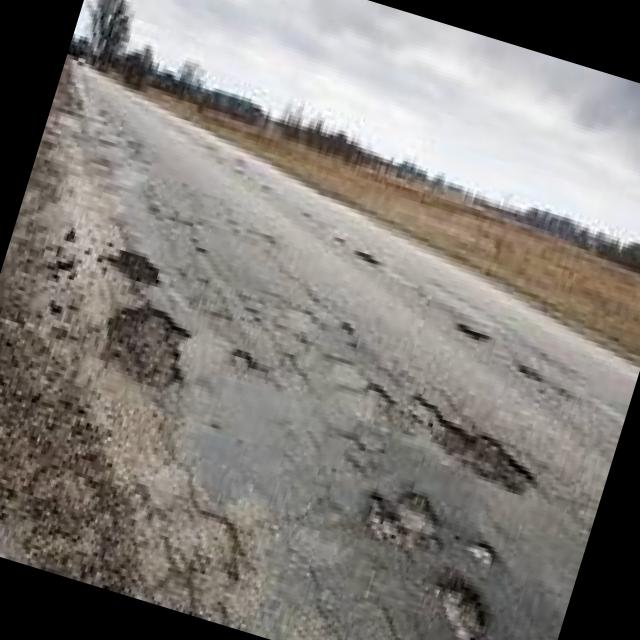Potholes: (366, 348, 566, 524), (72, 282, 229, 421), (78, 230, 209, 336), (401, 543, 517, 640), (332, 471, 453, 558), (444, 514, 509, 578), (506, 346, 569, 412), (442, 303, 493, 359)
